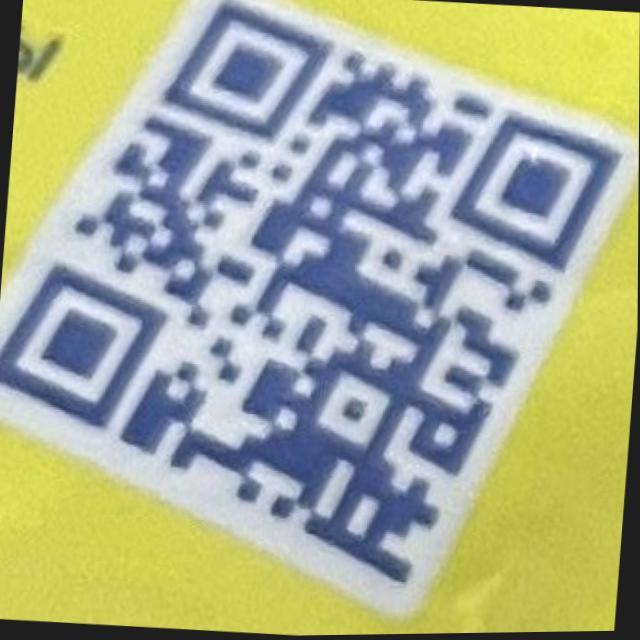QR_CODE: (0, 0, 636, 600)
